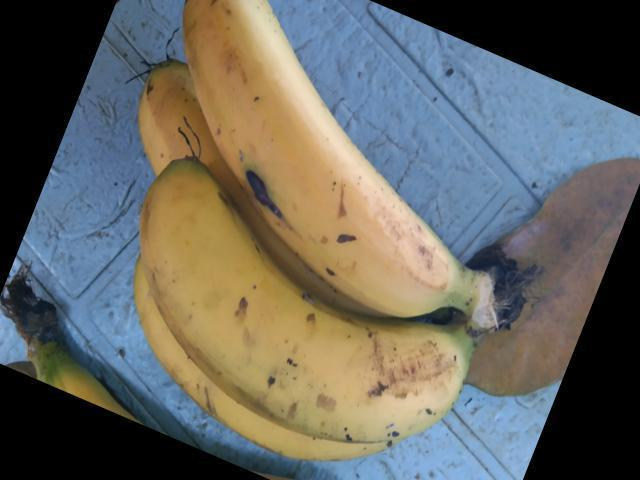ripe: (147, 173, 484, 479), (170, 0, 443, 312)
